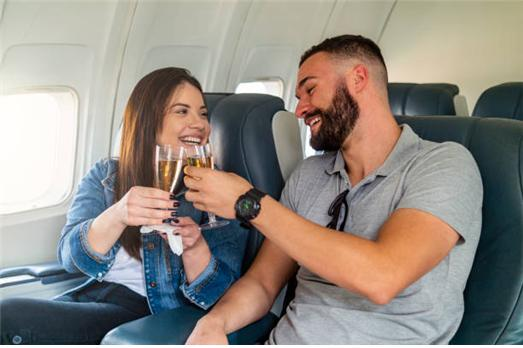alcohol: (182, 144, 229, 230), (151, 143, 182, 231)
